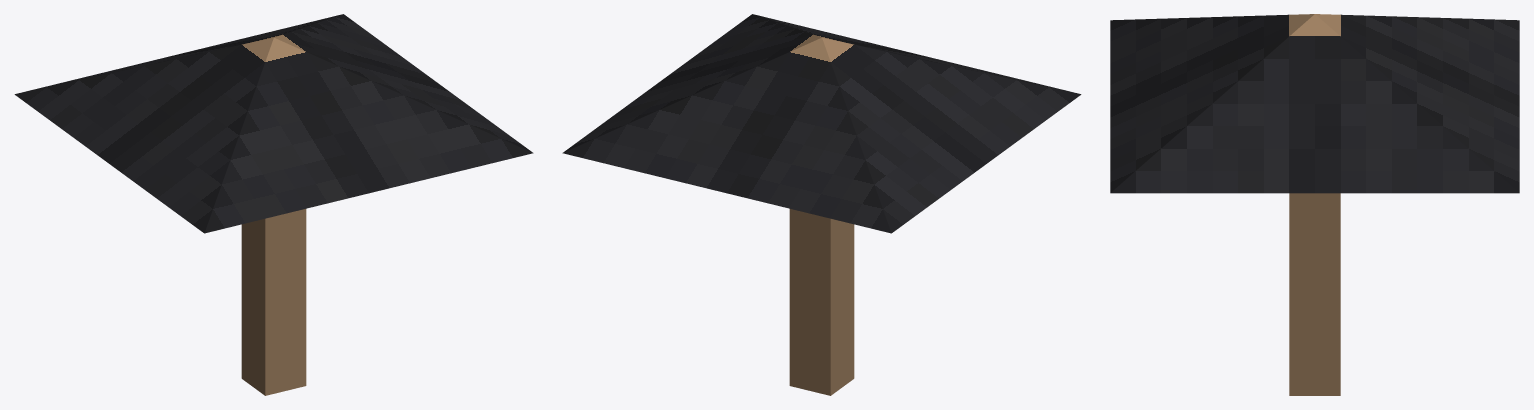
The model's file is black_umbrella_3d.obj.
The picture shows the model from 3 angles, left to right: view 1: azimuth 30°, elevation 25°; view 2: azimuth 150°, elevation 25°; view 3: azimuth 270°, elevation 25°; orthographic projection. The views are drawn at different scales.
Parts seen in each view (by area): view 1: Cube; view 2: Cube; view 3: Cube.
Part boxes in pixels (<box>): Cube: <box>14,14,533,395</box>; Cube: <box>562,14,1081,395</box>; Cube: <box>1110,14,1519,395</box>.
Bounding box in the file's own units: 1 × 1 × 1.
